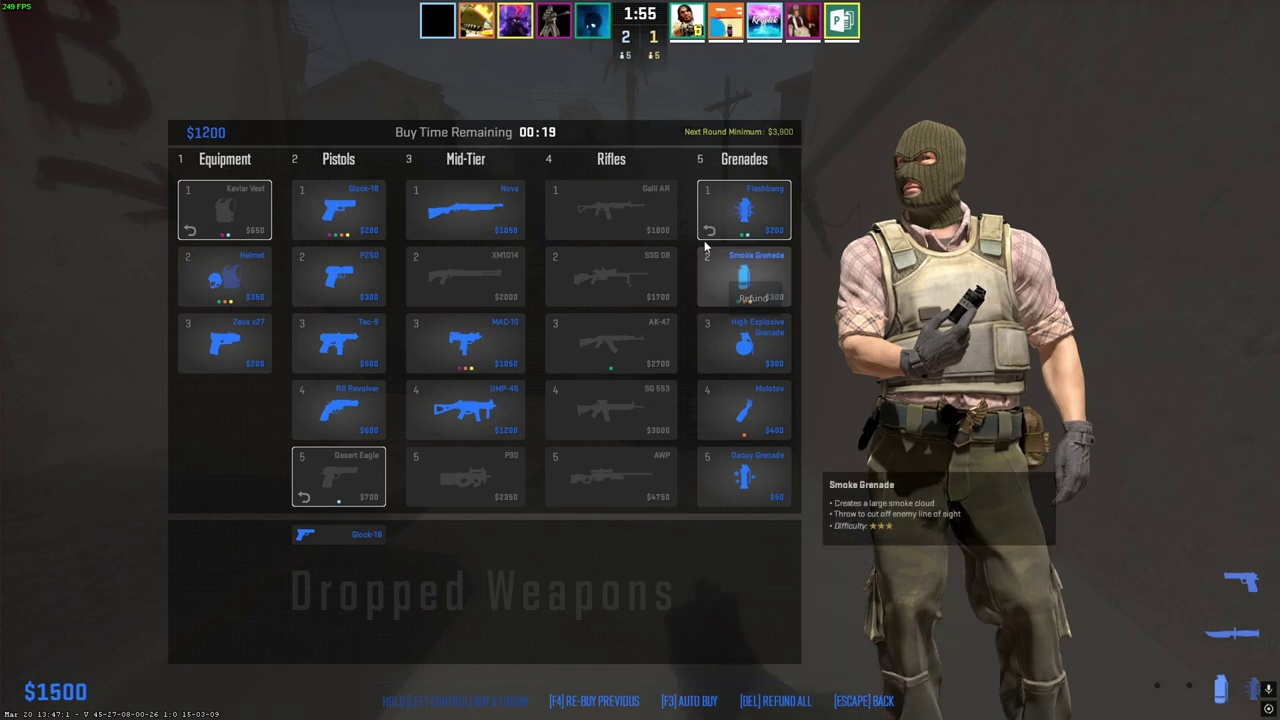Terrorist: (849, 121, 1076, 720)
